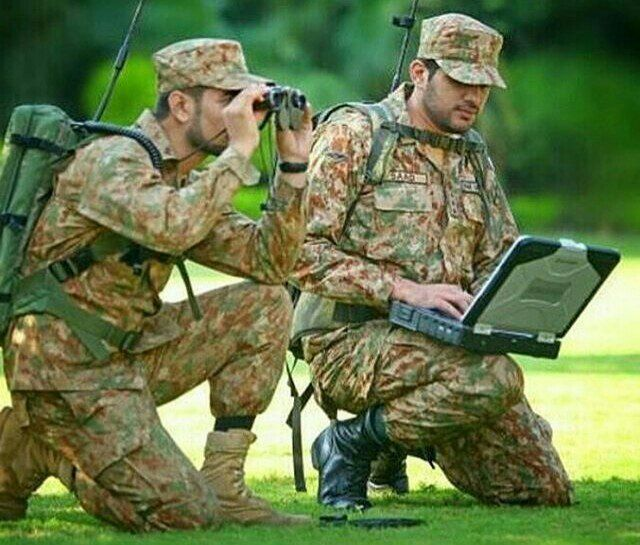uniform: (313, 51, 547, 509), (22, 85, 266, 506)
